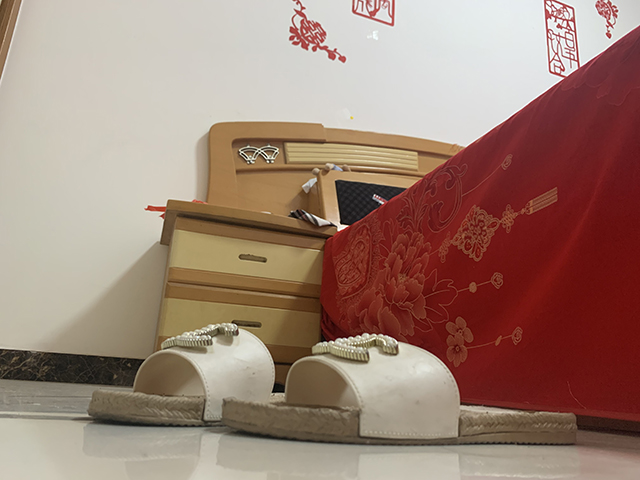bed: (205, 23, 639, 436)
cabinet: (152, 198, 338, 397)
slippers: (217, 332, 580, 448), (87, 327, 281, 425)
